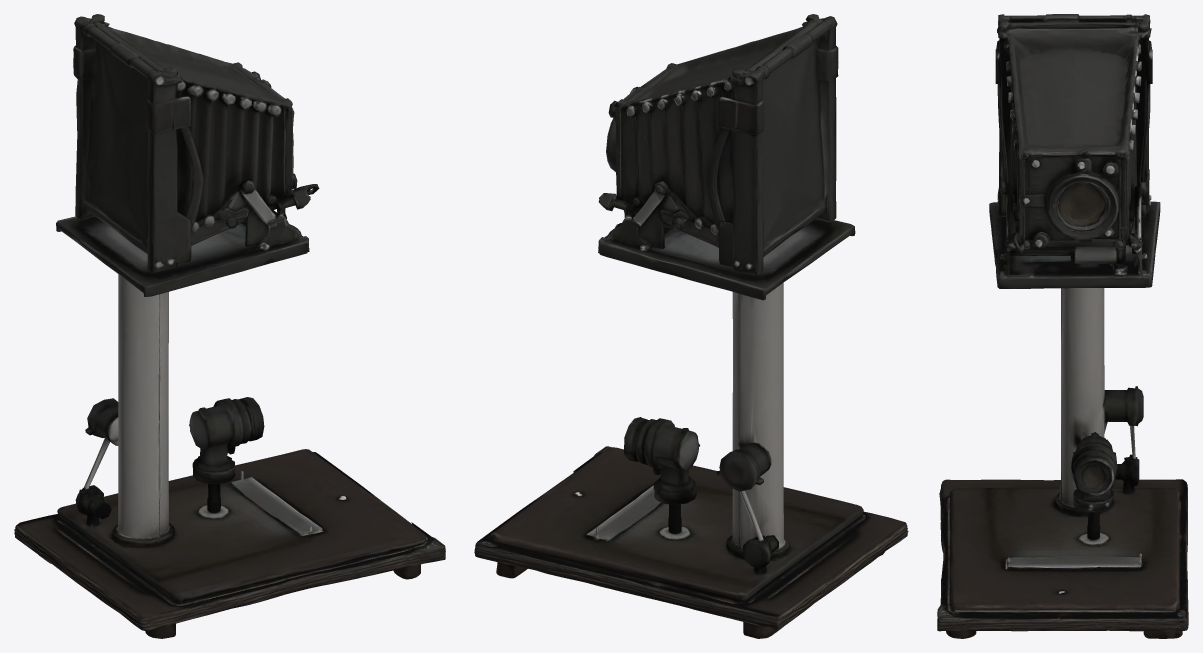
File: enlarger.glb
3 renders of one model, left to right at view 1: azimuth 30°, elevation 25°; view 2: azimuth 150°, elevation 25°; view 3: azimuth 270°, elevation 25°, orthographic. The views are drawn at different scales.
Parts seen in each view (by area): view 1: tripo_node_287c1565-b1a5-4fdf-a4fb-b71174f257dc; view 2: tripo_node_287c1565-b1a5-4fdf-a4fb-b71174f257dc; view 3: tripo_node_287c1565-b1a5-4fdf-a4fb-b71174f257dc.
Part boxes in pixels (x1,y1,x2,y2): tripo_node_287c1565-b1a5-4fdf-a4fb-b71174f257dc: [14, 14, 445, 638]; tripo_node_287c1565-b1a5-4fdf-a4fb-b71174f257dc: [474, 14, 908, 638]; tripo_node_287c1565-b1a5-4fdf-a4fb-b71174f257dc: [937, 14, 1188, 638].
Size of the model in its own units: 0.7032 by 1.2 by 0.5328.
1 material, 1 textured.
